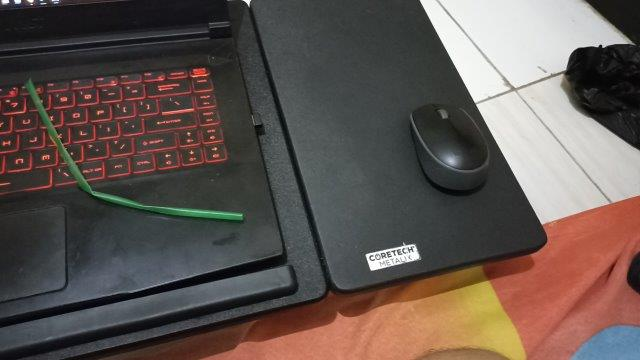sedotan: (25, 81, 243, 219)
